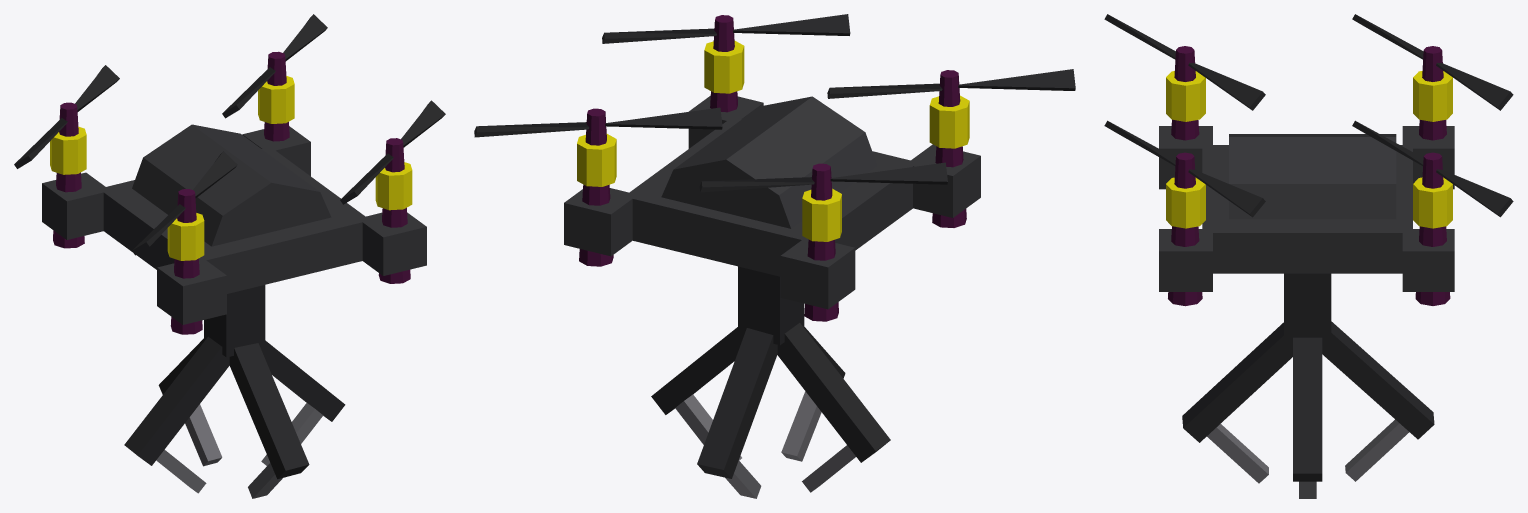
Rendered from 機械本体.fbx.
The picture shows the model from 3 angles, left to right: view 1: azimuth 30°, elevation 25°; view 2: azimuth 150°, elevation 25°; view 3: azimuth 270°, elevation 25°; orthographic projection. The views are drawn at different scales.
Parts seen in each view (by area): view 1: Cube.001, 立方体.007, 円柱.006, 立方体.014, 円柱.001, 立方体.004; view 2: Cube.001, 立方体.007, 立方体.014, 円柱.006, 円柱.001, 立方体.004; view 3: Cube.001, 立方体.007, 立方体.014, 円柱.006, 円柱.001, 立方体.004.
Boxes of the visible parts, <box> form: Cube.001: <box>42,124,426,324</box>; 立方体.007: <box>124,285,345,479</box>; 円柱.006: <box>50,76,412,260</box>; 立方体.014: <box>14,14,445,255</box>; 円柱.001: <box>53,51,410,334</box>; 立方体.004: <box>156,403,322,498</box>; Cube.001: <box>564,96,980,309</box>; 立方体.007: <box>651,266,890,478</box>; 立方体.014: <box>474,14,1075,192</box>; 円柱.006: <box>577,41,969,241</box>; 円柱.001: <box>579,15,966,321</box>; 立方体.004: <box>675,391,855,498</box>; Cube.001: <box>1159,126,1454,291</box>; 立方体.007: <box>1182,273,1434,481</box>; 立方体.014: <box>1104,14,1513,217</box>; 円柱.006: <box>1166,71,1452,228</box>; 円柱.001: <box>1168,46,1450,306</box>; 立方体.004: <box>1207,419,1409,498</box>.
Bounding box in the file's own units: 83.81 × 76.09 × 75.29.
